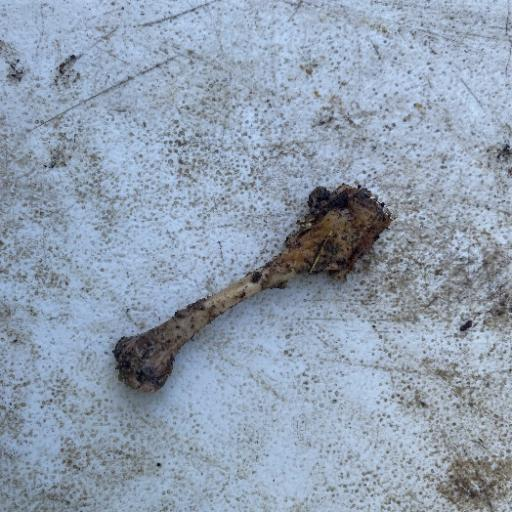Waste: (2, 1, 509, 510), (110, 180, 393, 395)
